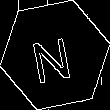N_N: (31, 27, 79, 83)
